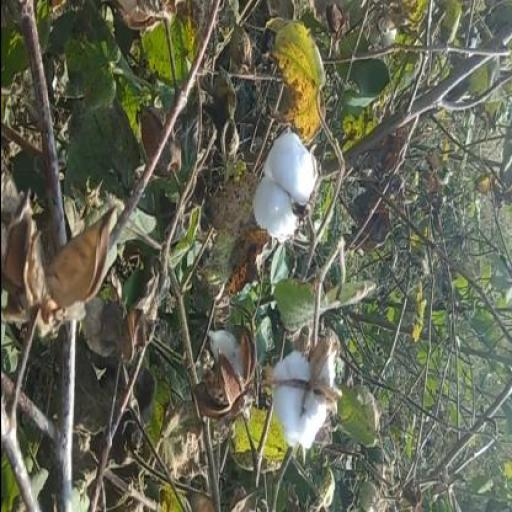cotton_ready: (264, 332, 350, 474), (237, 138, 329, 250)
